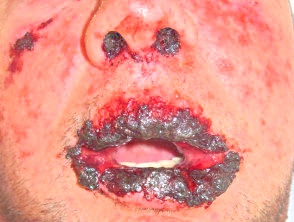SJS-TEN: (65, 83, 252, 214), (0, 0, 77, 95), (94, 19, 187, 77)
